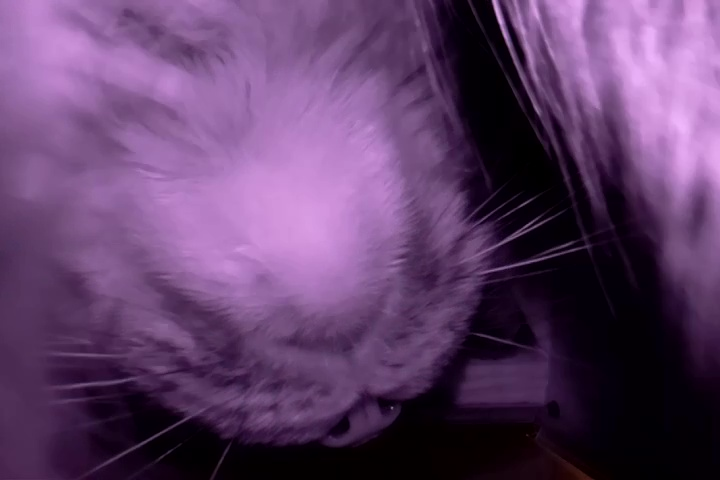Snout: (257, 270, 435, 451)
